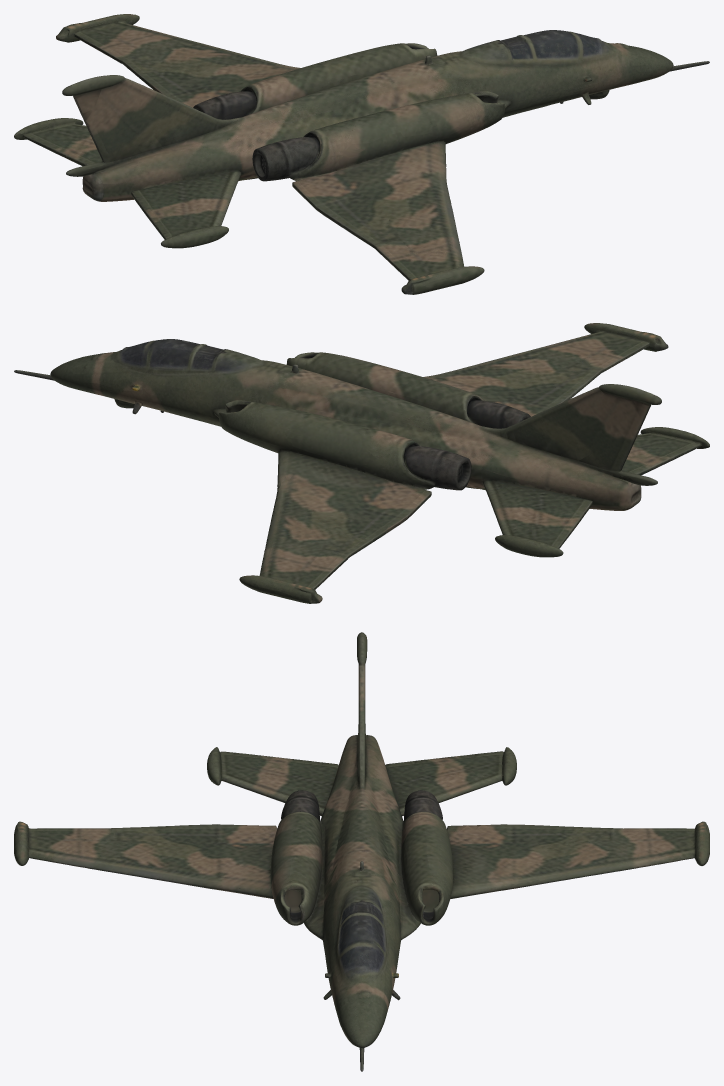
File: fh_hangar_attacker_1.glb
3 views of the same model, one above another, from view 1: azimuth 30°, elevation 25°; view 2: azimuth 150°, elevation 25°; view 3: azimuth 270°, elevation 25° (orthographic).
Visible parts, largest first — view 1: GLTF; view 2: GLTF; view 3: GLTF.
Part boxes in pixels (bbox=[...]): GLTF: bbox=[14, 14, 709, 294]; GLTF: bbox=[14, 323, 709, 603]; GLTF: bbox=[14, 632, 709, 1071].
Size of the model in its own units: 1 by 0.2121 by 0.9444.
1 material, 1 textured.
